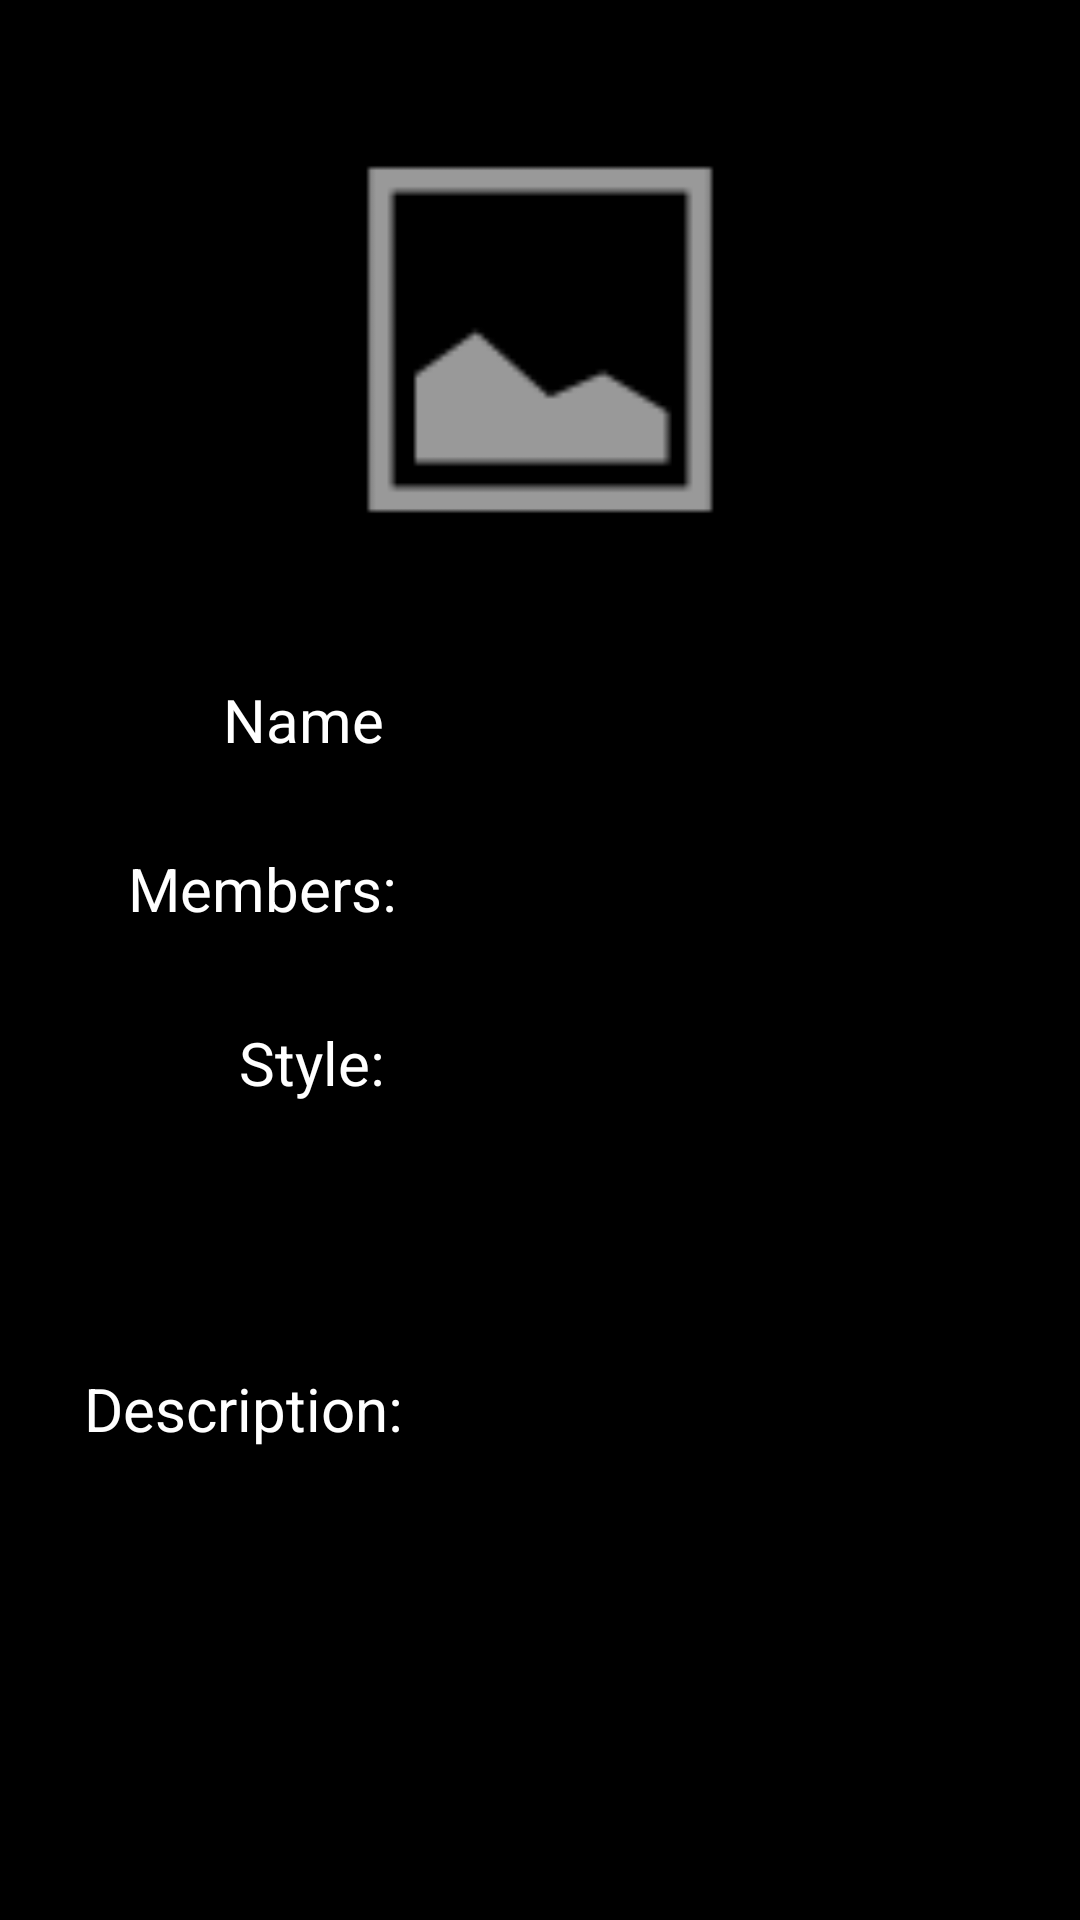

Where icons sit on this 1080*1920 app screen, as (x1,y1,x2,y2):
gallery: (367,166,713,513)
